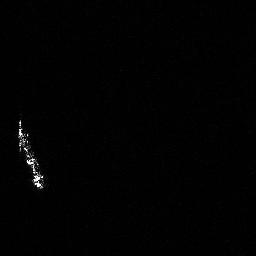ship: (13, 117, 51, 194)
